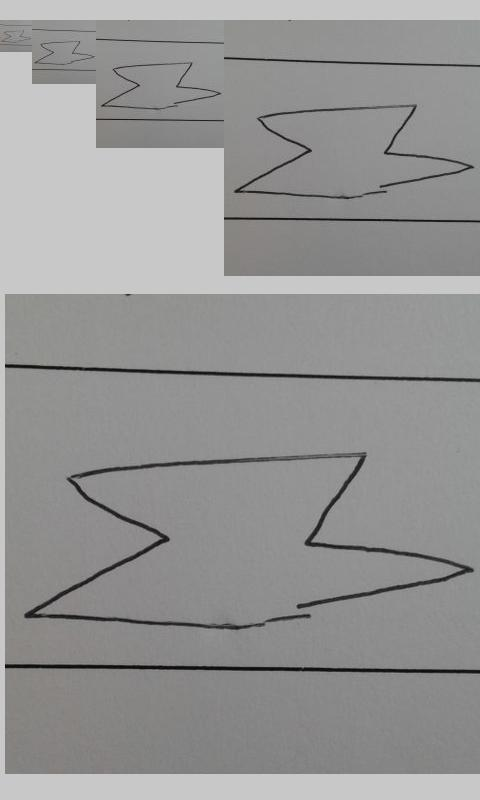edit_text: (23, 446, 474, 636), (232, 103, 476, 200), (101, 61, 222, 111), (34, 40, 95, 66), (2, 29, 31, 43)
